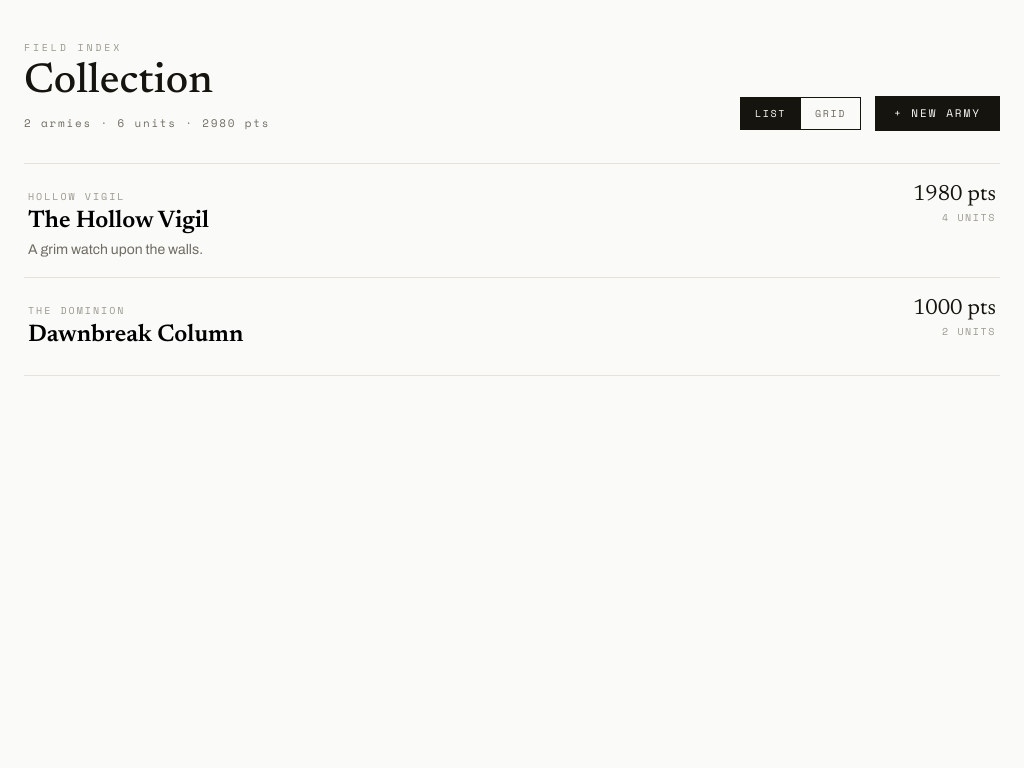
CollectionView › opens the New Army modal from the header button
The width and height of the screenshot is (1024, 768).
Click the button "+ New Army": (937, 114) [875,96,1000,131]
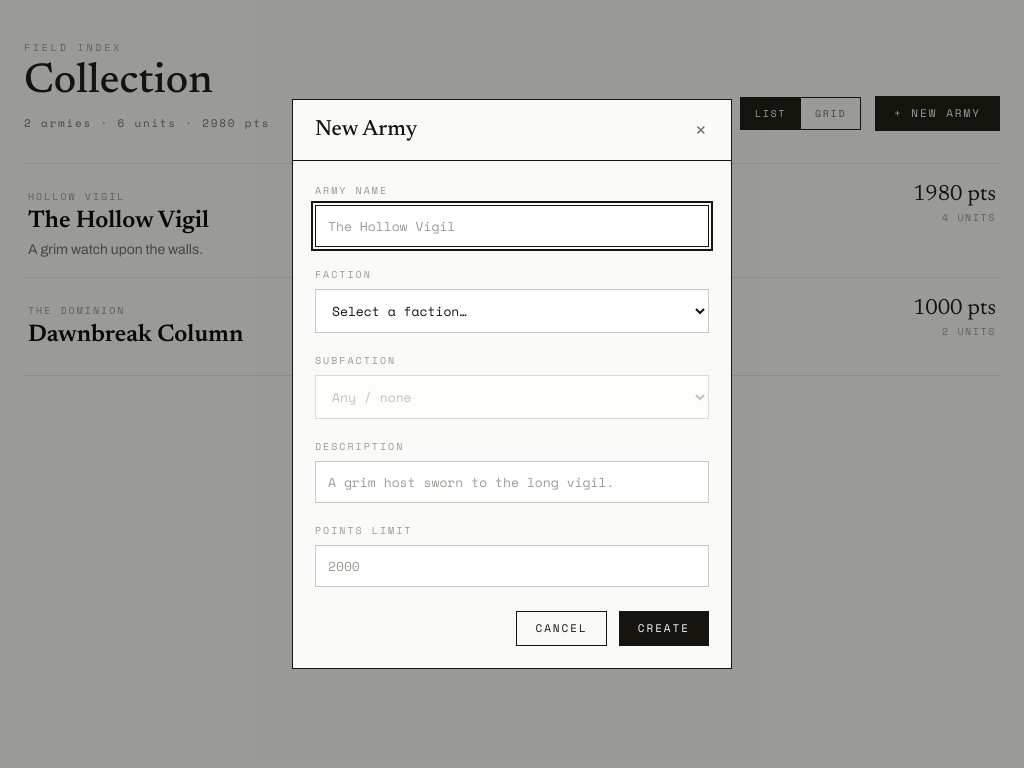
Expected: the heading "New Army" is shown, [315,118,417,142]
